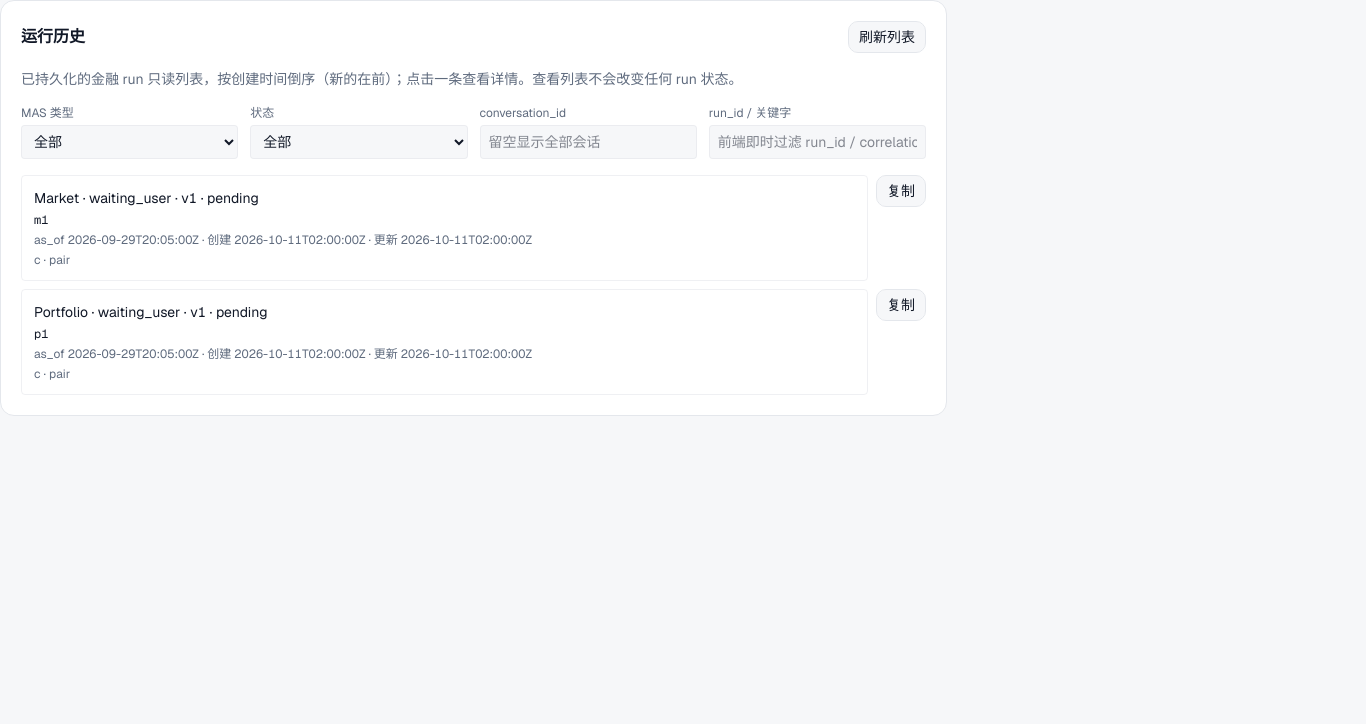
Test: 金融 MAS 运行历史 › lists persisted run summaries and opens the reused detail panel on selection
Expected: the text "m1" is shown, [34,212,48,228]
Expected: the text "Market · waiting_user · v1 · pending" is shown, [34,189,259,207]
Click the button with aria-label "查看运行 m1". click: point(57, 198)
box: [21,175,868,281]
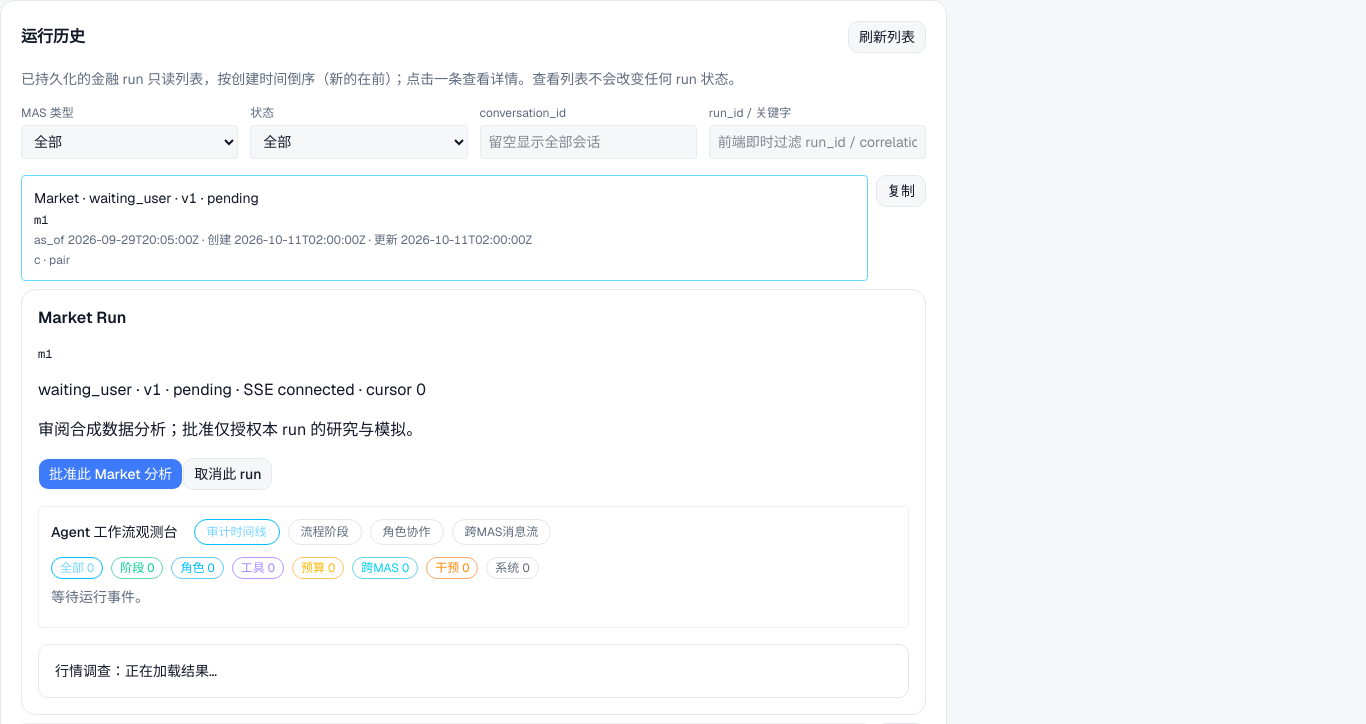
Expected: the button "批准此 Market 分析" is shown, [38,458,183,490]
